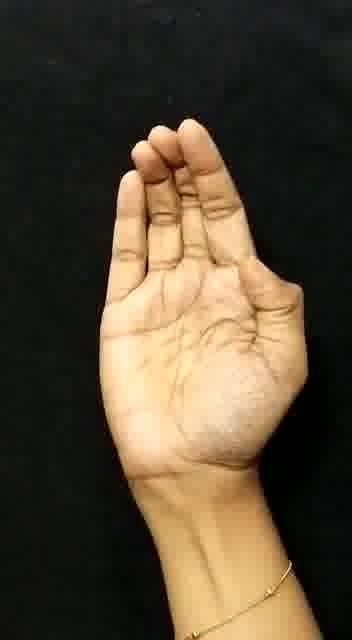sarpsheesh: (60, 104, 318, 498)
